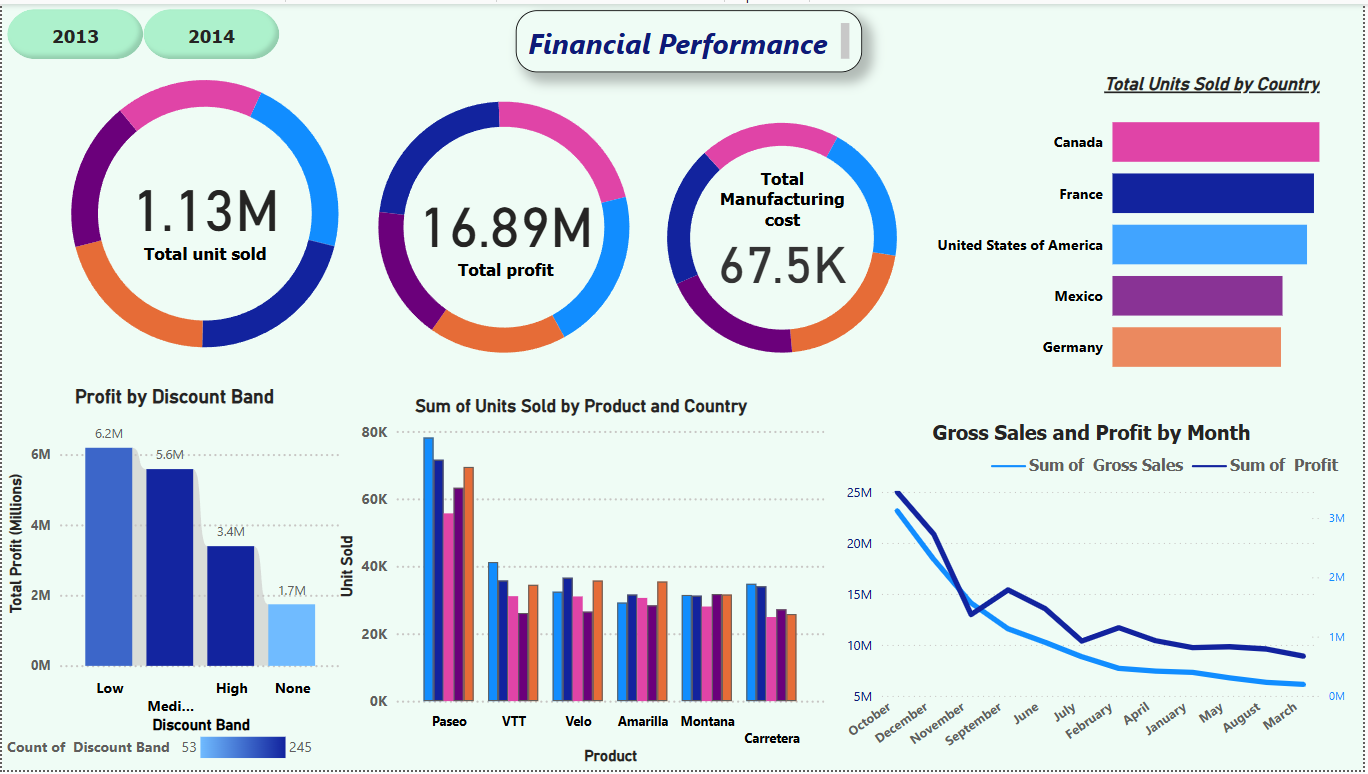

The dashboard page shown, as its layout file describes it:
{"tool":"powerbi","page":{"name":"Page 1","canvas":[1280,720],"ordinal":0},"visuals":[{"type":"card","fields":{"Values":["financial_data.Total profit"]},"box":[333.8,106.4,280,211.6],"z":0},{"type":"card","fields":{"Values":["financial_data.Total unit sold"]},"box":[50.1,91.7,281.3,211.6],"z":1000},{"type":"barChart","title":"Total Units Sold  by Country","fields":{"Category":["financial_data.Country"],"Y":["Sum(financial_data. Units Sold )"]},"box":[873.1,64.8,370.5,302],"z":2000},{"type":"lineChart","title":" Gross Sales  and Profit  by  Month","fields":{"Y":["Sum(financial_data. Gross Sales )"],"Y2":["Sum(financial_data. Profit )"],"Category":["financial_data. Month Name "]},"box":[777.5,391.2,492.5,328.8],"z":3000},{"type":"advancedSlicerVisual","fields":{"Values":["financial_data.Year"]},"box":[0,0,266.2,57.5],"z":4000},{"type":"card","title":"Total Manufacturing cost","fields":{"Values":["financial_data.Total Manufacturing cost"]},"box":[650.5,154.1,165.1,118.6],"z":5000},{"type":"columnChart","title":"Profit  by  Discount Band ","fields":{"Category":["financial_data. Discount Band "],"Y":["Sum(financial_data. Profit )"]},"box":[0,358.8,297.5,361.2],"z":6000},{"type":"donutChart","fields":{"Y":["financial_data.Total Manufacturing cost"],"Category":["financial_data.Country"]},"box":[593.1,79.5,280,280],"z":7000},{"type":"donutChart","fields":{"Y":["financial_data.Total profit"],"Category":["financial_data.Country"]},"box":[323.8,62.5,295,295],"z":8000},{"type":"donutChart","fields":{"Y":["financial_data.Total unit sold"],"Category":["financial_data.Country"]},"box":[26.9,35.5,327.7,324.1],"z":9000},{"type":"clusteredColumnChart","fields":{"Y":["Sum(financial_data. Units Sold )"],"Category":["financial_data. Product "],"Series":["financial_data.Country"]},"box":[311.2,367.5,466.2,352.5],"z":10000},{"type":"textbox","box":[532.5,6.2,313.8,58.8],"z":10001}]}

Visuals, with their boxes in screenshot pixels (x1, y1, x2, y2), scaled from the page's 1280x720 canvas onto the 1368x774 screenshot:
card - financial_data.Total profit: locate(357, 114, 656, 342)
card - financial_data.Total unit sold: locate(54, 99, 354, 326)
"Total Units Sold  by Country" barChart: locate(933, 70, 1329, 394)
" Gross Sales  and Profit  by  Month" lineChart: locate(831, 421, 1357, 773)
advancedSlicerVisual - financial_data.Year: locate(0, 0, 285, 62)
"Total Manufacturing cost" card: locate(695, 166, 872, 293)
"Profit  by  Discount Band " columnChart: locate(0, 386, 318, 773)
donutChart - financial_data.Total Manufacturing cost x financial_data.Country: locate(634, 85, 933, 386)
donutChart - financial_data.Total profit x financial_data.Country: locate(346, 67, 661, 384)
donutChart - financial_data.Total unit sold x financial_data.Country: locate(29, 38, 379, 387)
clusteredColumnChart - Sum(financial_data. Units Sold ) x financial_data. Product : locate(333, 395, 831, 773)
textbox: locate(569, 7, 904, 70)
